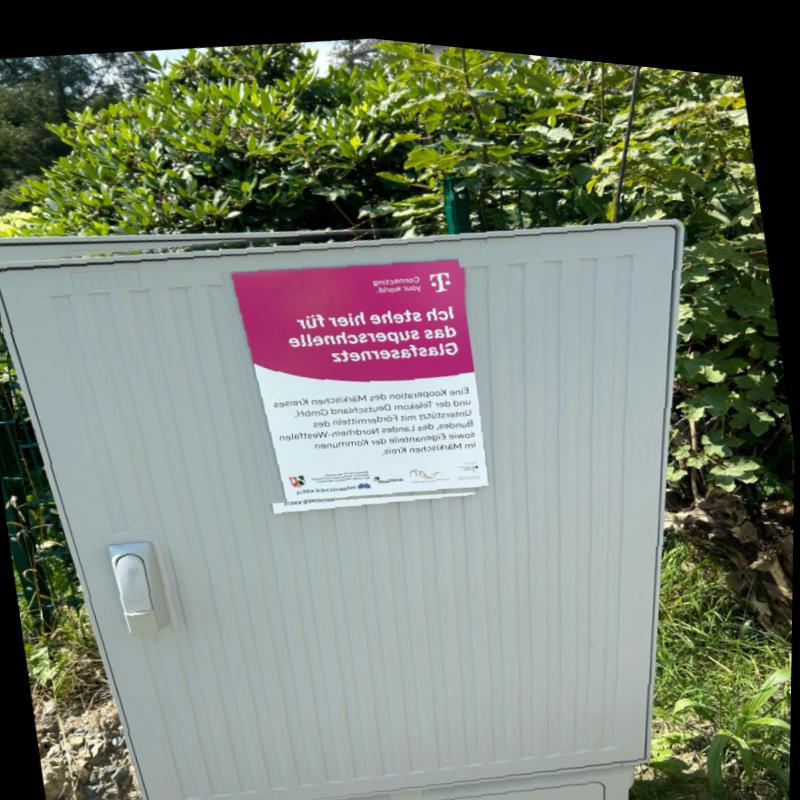NT-Gehause: (0, 205, 686, 800)
Steaker: (221, 243, 492, 496)
